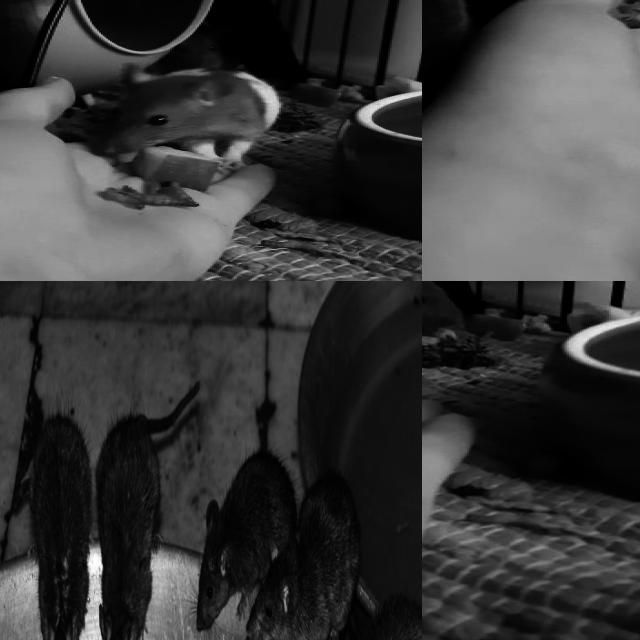rat: (95, 65, 280, 168), (251, 494, 358, 640), (97, 416, 153, 640), (43, 415, 87, 640)
